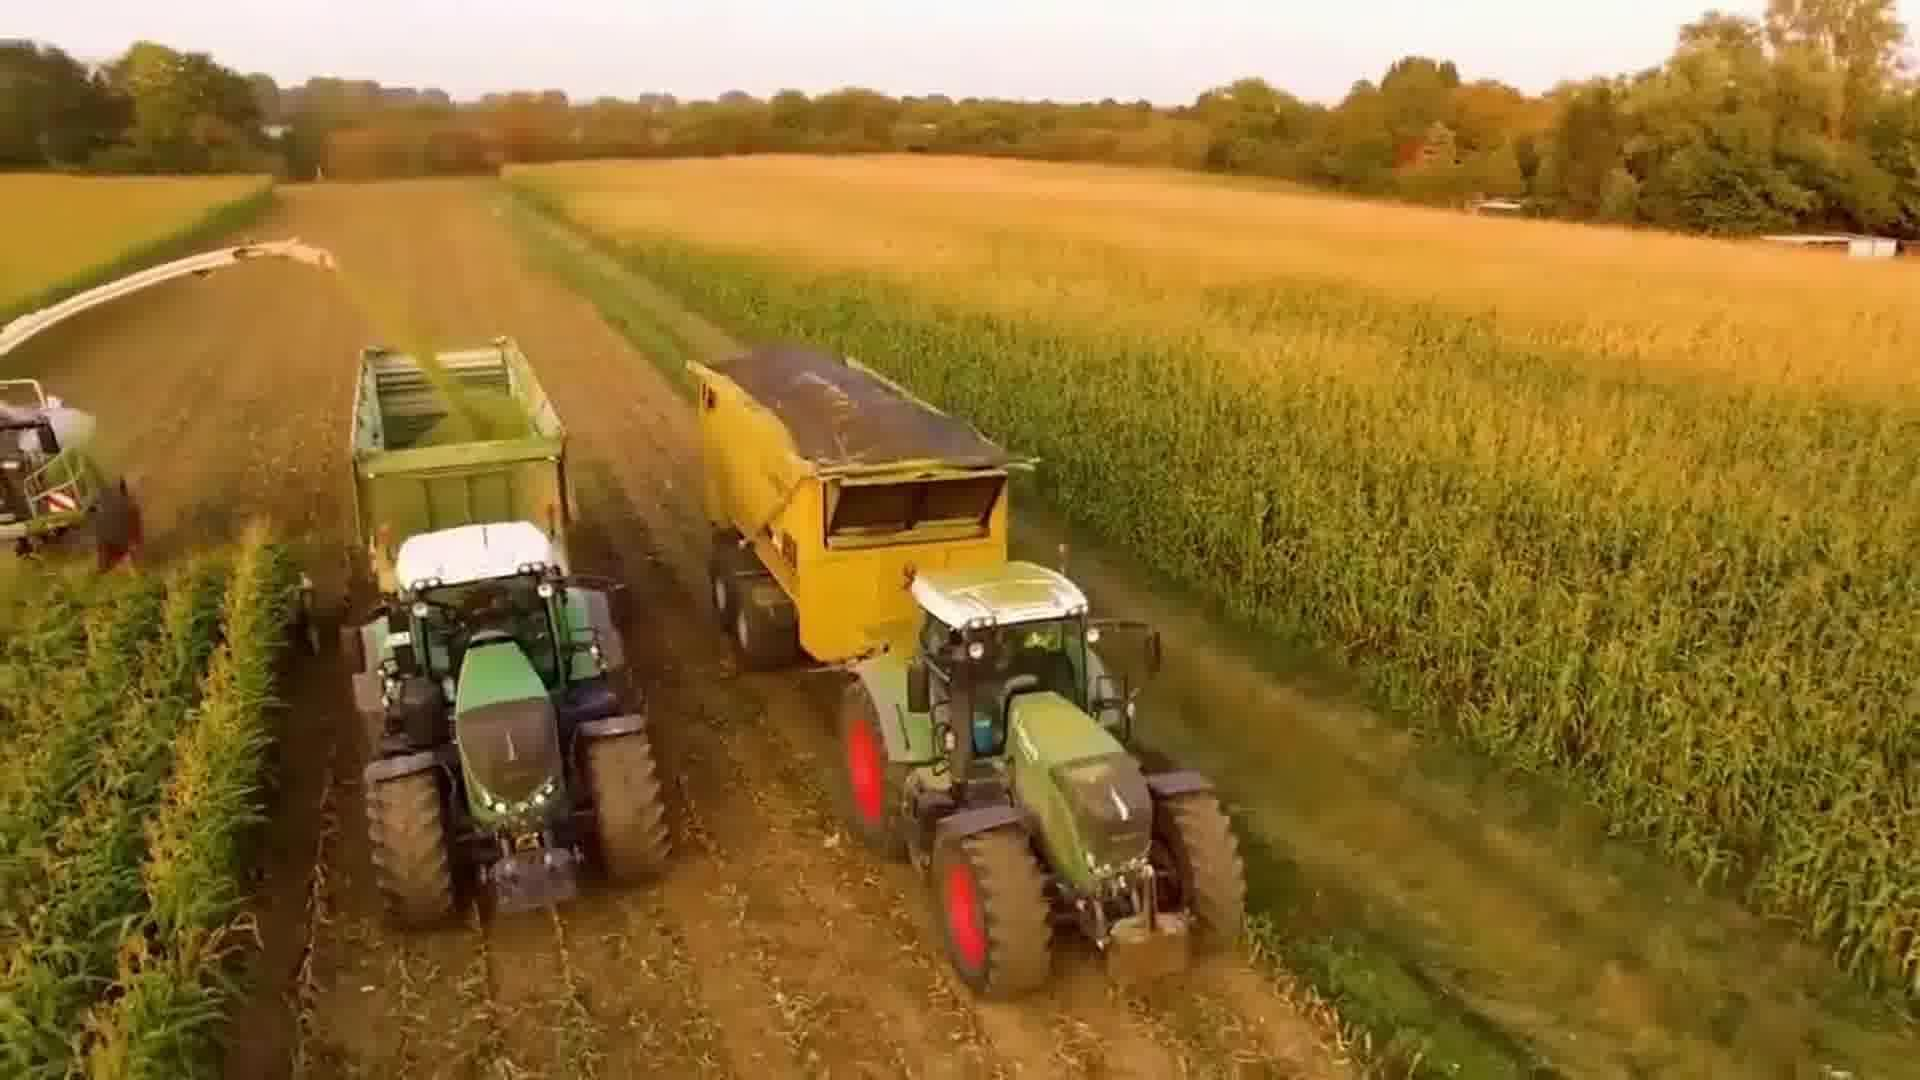combine harvester: (0, 231, 340, 605)
tractor: (816, 546, 1263, 1009), (342, 500, 679, 936)
trailer: (679, 340, 1040, 679), (344, 326, 576, 542)
